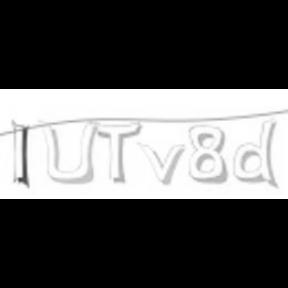8: (187, 124, 229, 186)
I: (12, 119, 33, 188)
T: (98, 121, 142, 183)
U: (37, 118, 97, 184)
d: (232, 116, 280, 188)
v: (137, 140, 185, 186)
